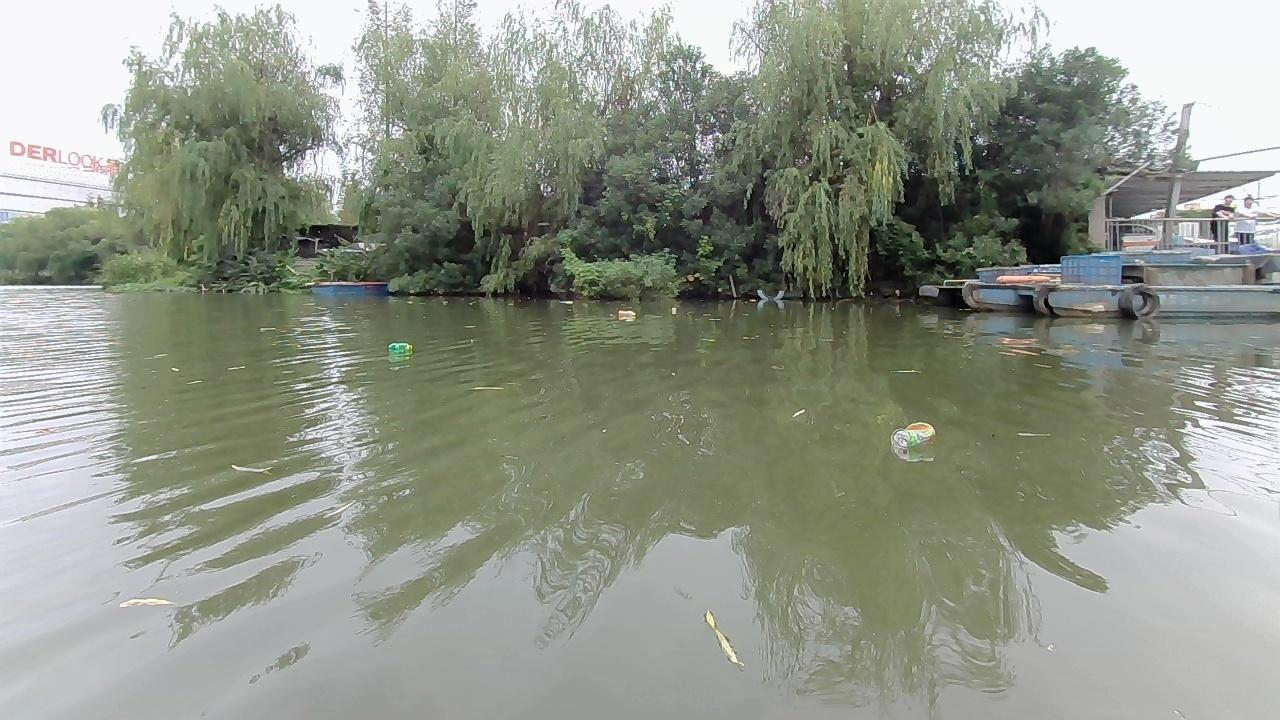bottle: (893, 418, 939, 451), (385, 338, 410, 354), (615, 310, 634, 320), (670, 305, 678, 314)
